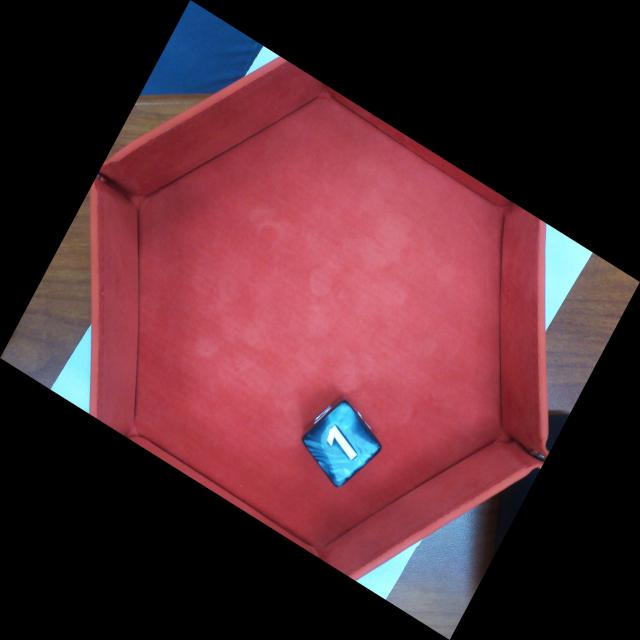dice: (304, 397, 384, 486)
